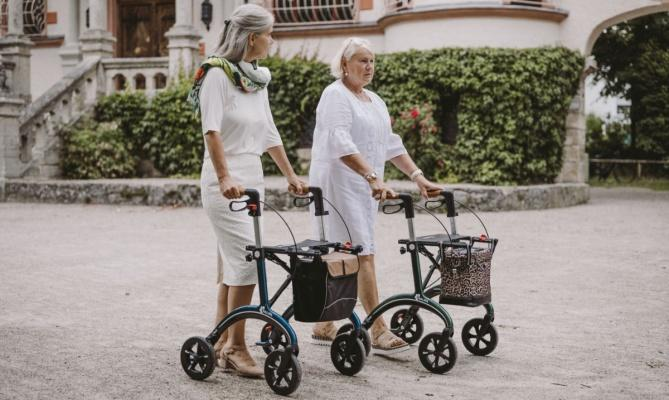walking_frame: (180, 4, 371, 396), (309, 37, 498, 374)
